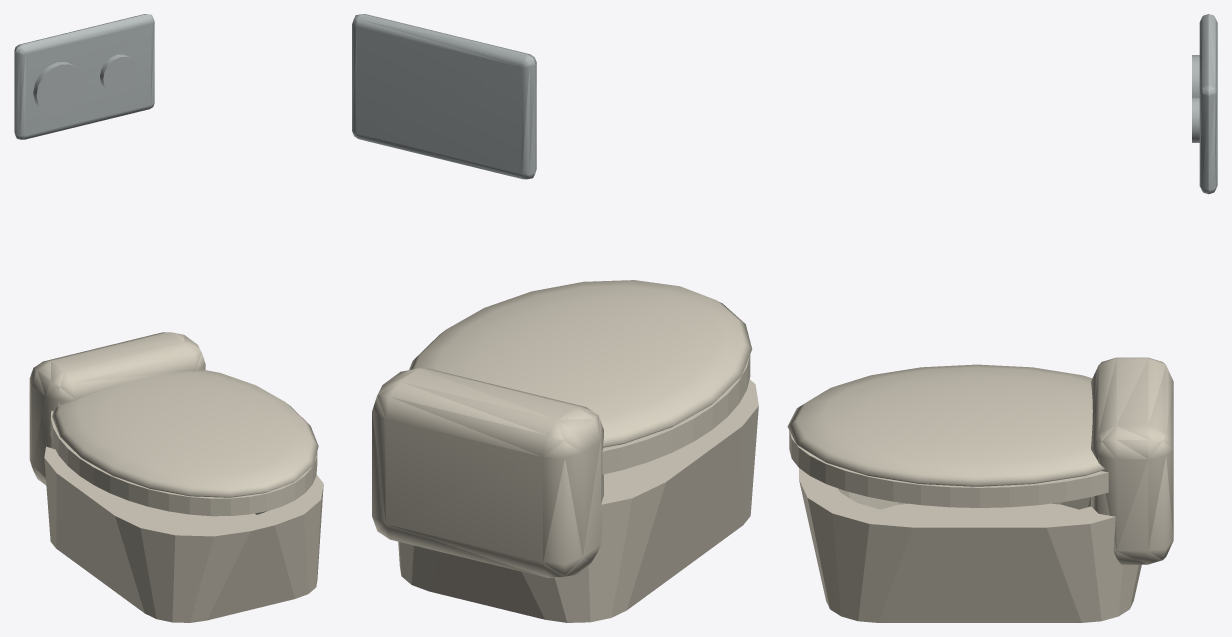
Rendered from 13_advanced_toilet.glb.
3 renders of one model, left to right at view 1: azimuth 30°, elevation 25°; view 2: azimuth 150°, elevation 25°; view 3: azimuth 270°, elevation 25°, orthographic. The views are drawn at different scales.
Visible parts, largest first — view 1: 13_advanced_toilet__Static, 13_advanced_toilet__lid_moving; view 2: 13_advanced_toilet__Static, 13_advanced_toilet__lid_moving; view 3: 13_advanced_toilet__Static, 13_advanced_toilet__lid_moving.
Boxes of the visible parts, x1=… form: 13_advanced_toilet__Static: x1=14, y1=14, x2=323, y2=622; 13_advanced_toilet__lid_moving: x1=52, y1=370, x2=318, y2=497; 13_advanced_toilet__Static: x1=352, y1=14, x2=758, y2=622; 13_advanced_toilet__lid_moving: x1=409, y1=280, x2=752, y2=447; 13_advanced_toilet__Static: x1=789, y1=14, x2=1217, y2=622; 13_advanced_toilet__lid_moving: x1=787, y1=364, x2=1104, y2=486.
Size of the model in its own units: 0.438 by 0.915 by 0.677.
